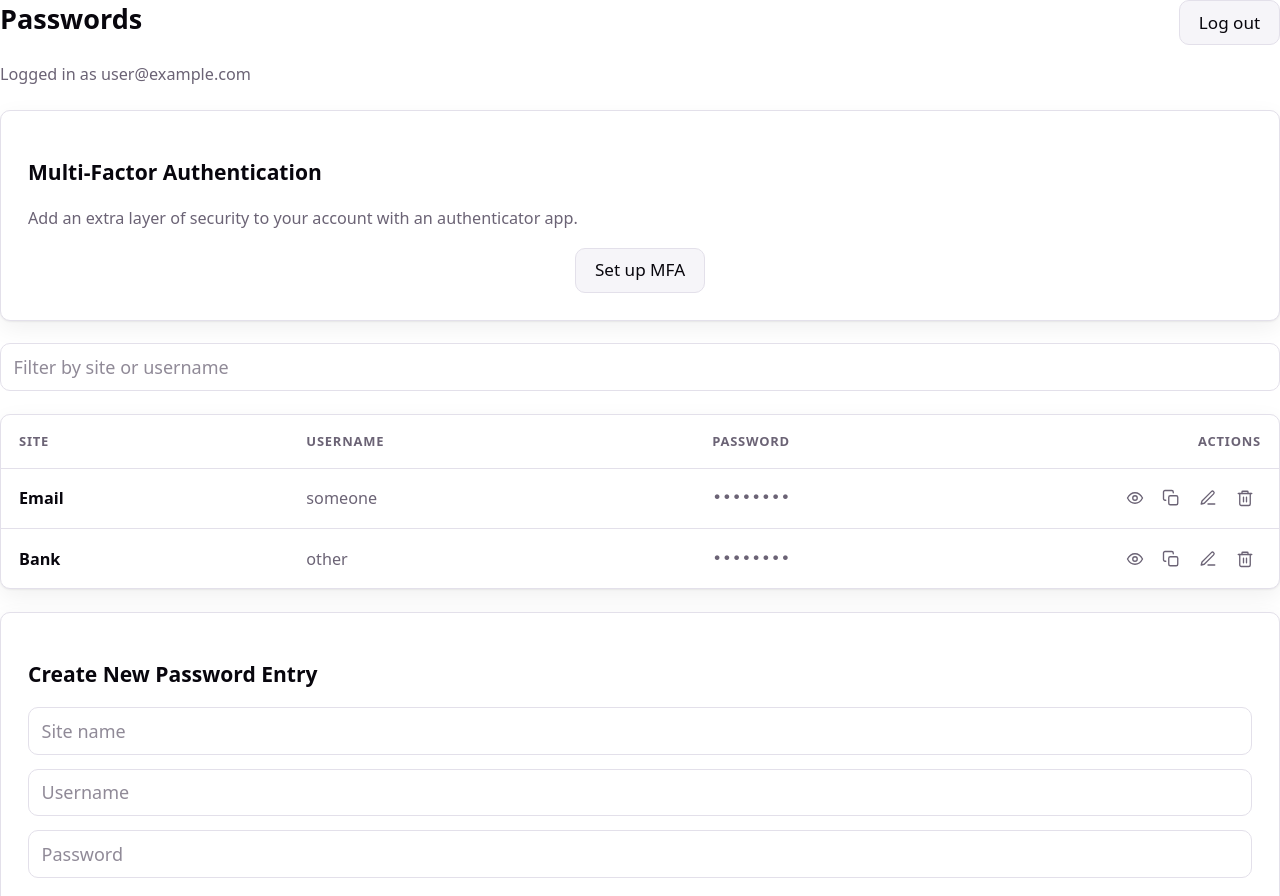
PasswordsPage › filters passwords by site name
This screenshot has width=1280, height=896.
Expected: the text "Email" is shown, 1,468 -> 288,529
Expected: the text "Bank" is shown, 1,528 -> 288,588
In the field with placeholder "Filter by site or username": coordinates (640, 367) 0,343 -> 1279,391, type "ema"
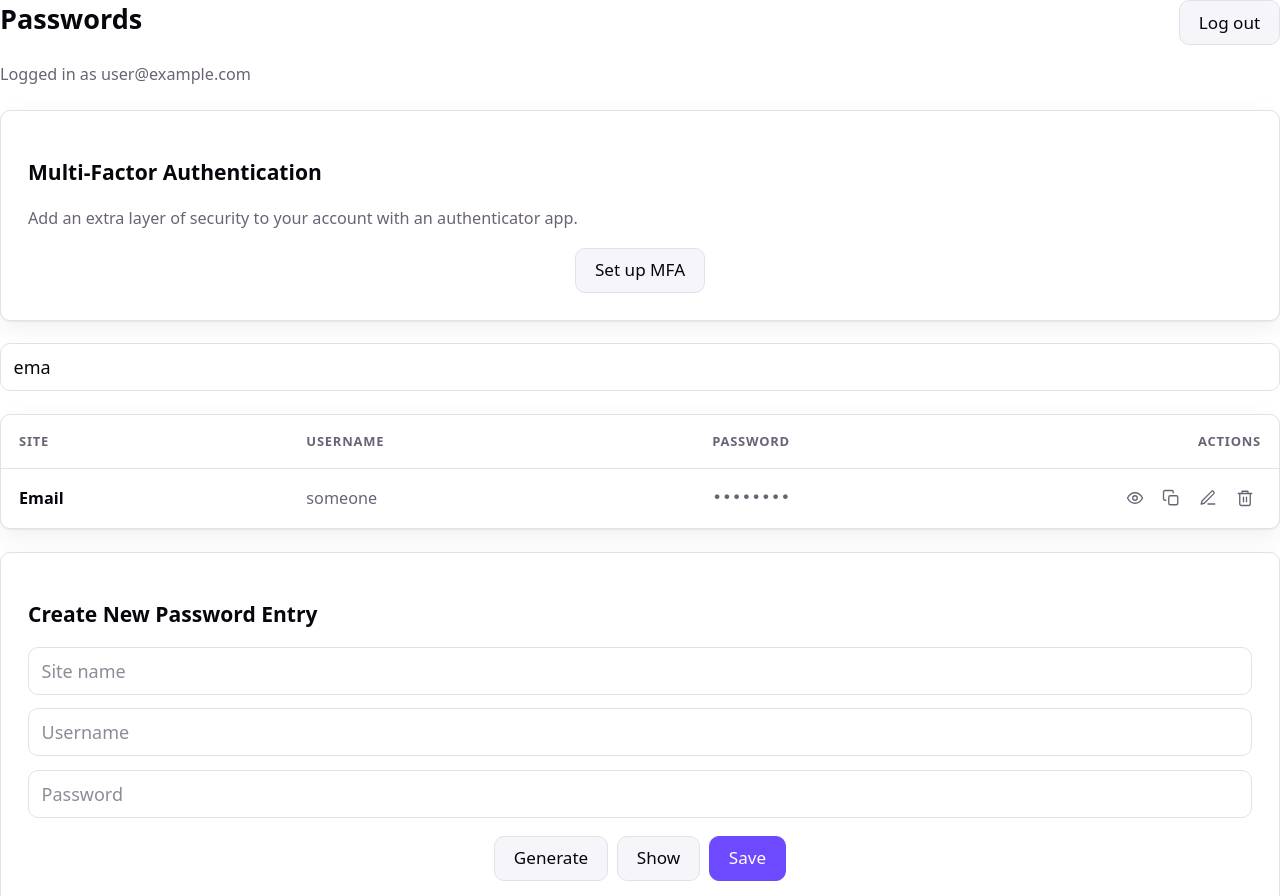
Expected: the text "Email" is shown, 1,468 -> 288,528
Expected: the text "Bank" is gone
